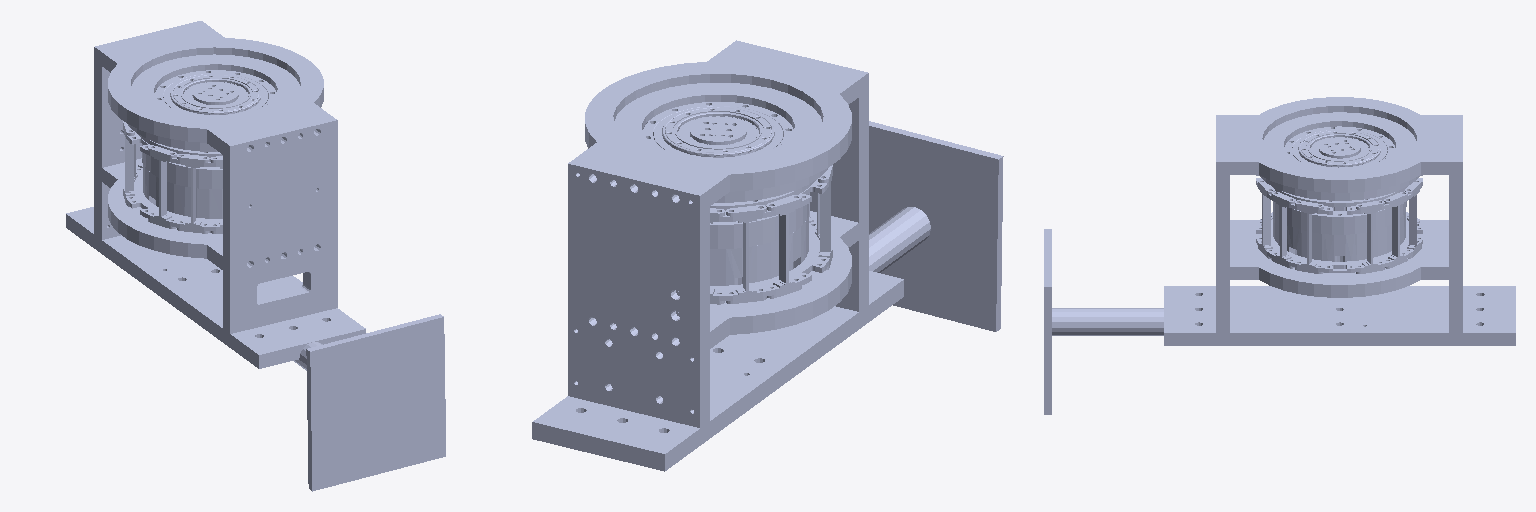
robot.urdf — ee_tip:
<?xml version="1.0" encoding="utf-8"?>
<!-- This URDF was automatically created by SolidWorks to URDF Exporter! Originally created by [author] ([email redacted]) 
     Commit Version: 1.6.0-1-g15f4949  Build Version: 1.6.7594.29634
     For more information, please see http://wiki.ros.org/sw_urdf_exporter -->
<robot
  name="ee_tip">
  <link
    name="base_link">
    <inertial>
      <origin
        xyz="2.82378534434436E-18 -0.0227581511174895 3.82068943351184E-18"
        rpy="0 0 0" />
      <mass
        value="0.0814159265358979" />
      <inertia
        ixx="0.000121913816960056"
        ixy="-4.329016012952E-20"
        ixz="2.01977829715946E-20"
        iyy="8.49041296601283E-05"
        iyz="6.9098351648537E-21"
        izz="0.000121913816960056" />
    </inertial>
    <visual>
      <origin
        xyz="0 0 0"
        rpy="0 0 0" />
      <geometry>
        <mesh
          filename="package://ee_tip/meshes/base_link.STL" />
      </geometry>
      <material
        name="">
        <color
          rgba="0.792156862745098 0.819607843137255 0.933333333333333 1" />
      </material>
    </visual>
    <collision>
      <origin
        xyz="0 0 0"
        rpy="0 0 0" />
      <geometry>
        <mesh
          filename="package://ee_tip/meshes/base_link.STL" />
      </geometry>
    </collision>
  </link>
  <link
    name="link1">
    <inertial>
      <origin
        xyz="-5.45993780887765E-17 -2.57729904459674E-18 -0.0822418488825105"
        rpy="0 0 0" />
      <mass
        value="0.081415926535898" />
      <inertia
        ixx="0.000121913816960056"
        ixy="2.75285707857648E-21"
        ixz="3.4663661937145E-20"
        iyy="0.000121913816960056"
        iyz="2.50902565773603E-21"
        izz="8.49041296601284E-05" />
    </inertial>
    <visual>
      <origin
        xyz="0 0 0"
        rpy="0 0 0" />
      <geometry>
        <mesh
          filename="package://ee_tip/meshes/link1.STL" />
      </geometry>
      <material
        name="">
        <color
          rgba="0.792156862745098 0.819607843137255 0.933333333333333 1" />
      </material>
    </visual>
    <collision>
      <origin
        xyz="0 0 0"
        rpy="0 0 0" />
      <geometry>
        <mesh
          filename="package://ee_tip/meshes/link1.STL" />
      </geometry>
    </collision>
  </link>
  <joint
    name="joint1"
    type="continuous">
    <origin
      xyz="0 -0.105 0"
      rpy="-1.5707963267949 -0.0161784886231073 0" />
    <parent
      link="base_link" />
    <child
      link="link1" />
    <axis
      xyz="0 0 1" />
  </joint>
</robot>

--- Render facts (derived) ---
The picture shows the robot from 3 angles, left to right: view 1: azimuth 30°, elevation 25°; view 2: azimuth 150°, elevation 25°; view 3: azimuth 270°, elevation 25°; orthographic projection.
Robot: ee_tip — 2 links, 1 joints (1 continuous); root link base_link; default pose: all joints at 0.
Visible links, largest first — view 1: base_link, link1; view 2: base_link, link1; view 3: base_link, link1.
Link boxes in pixels (x1,y1,x2,y2): base_link: [66, 21, 365, 368]; link1: [294, 314, 445, 491]; base_link: [532, 40, 903, 471]; link1: [869, 121, 1003, 331]; base_link: [1164, 97, 1515, 345]; link1: [1044, 229, 1163, 414].
Size in the robot's own frame: 0.1395 by 0.335 by 0.1948 metres.
Meshes: 2 distinct files referenced, 2 mesh visuals loaded (2 binary STL).